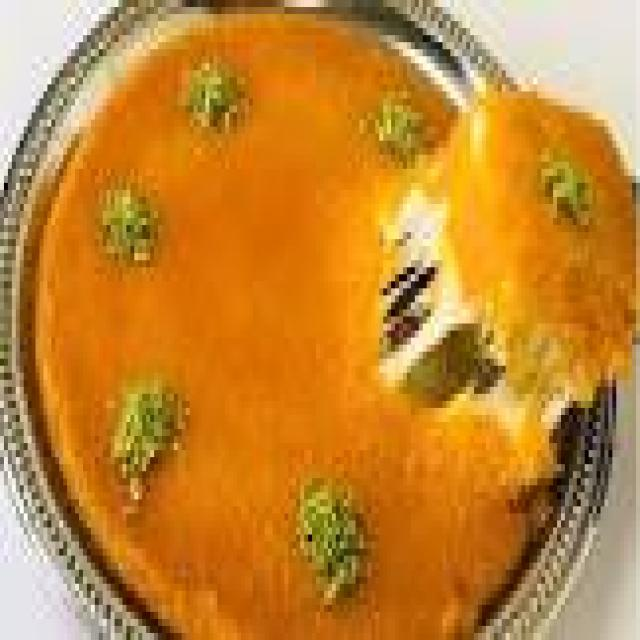konafa: (12, 0, 640, 640)
